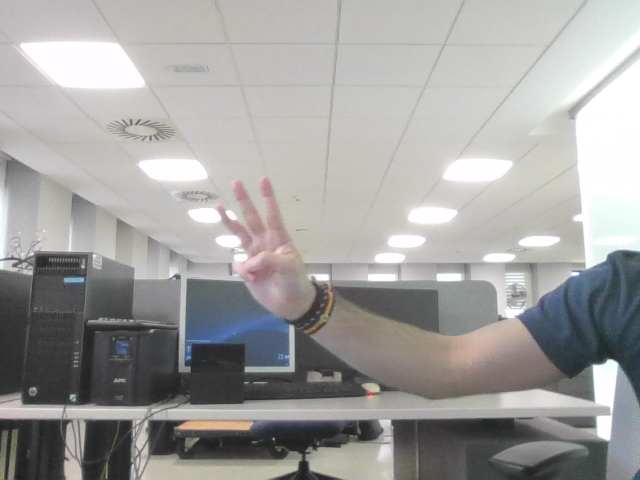3Dedos: (223, 188, 291, 281)
